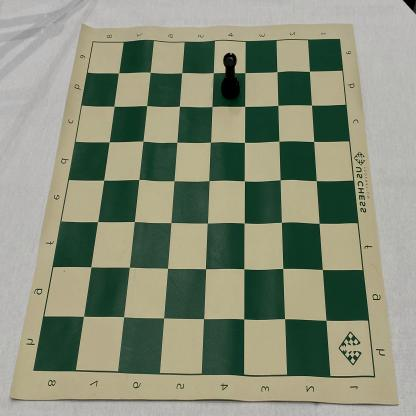black-rook: (222, 52, 240, 100)
